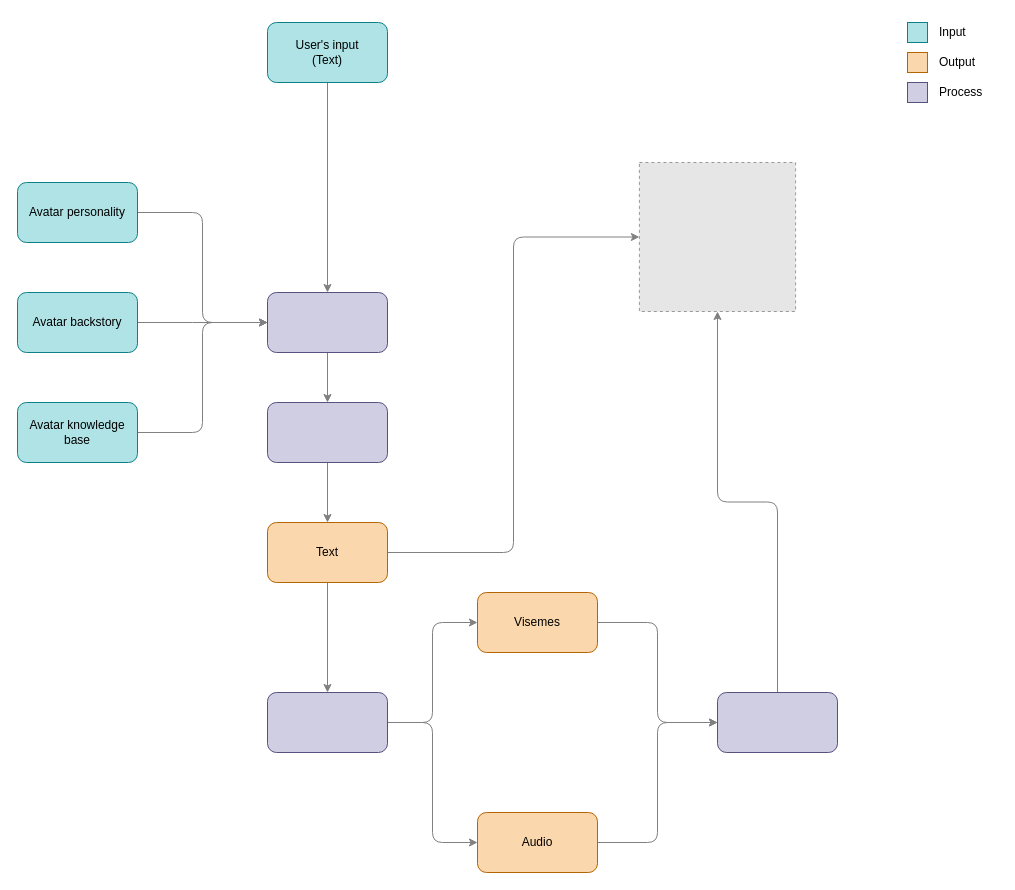
Some shapes in this 1015 by 890 pixel diagram are drawn without their labels. Grey dashed boxes stand in for pictures. The shapes that lost their labels are listed below. From the top down, each one's centre as x and y in pixels, then its label:
At (327,322): "Prompt".
At (327,432): "Open AI GPTs (LangChain)".
At (327,722): "Azure Cognitive (TTS service)".
At (777,722): "Lips-sync".
